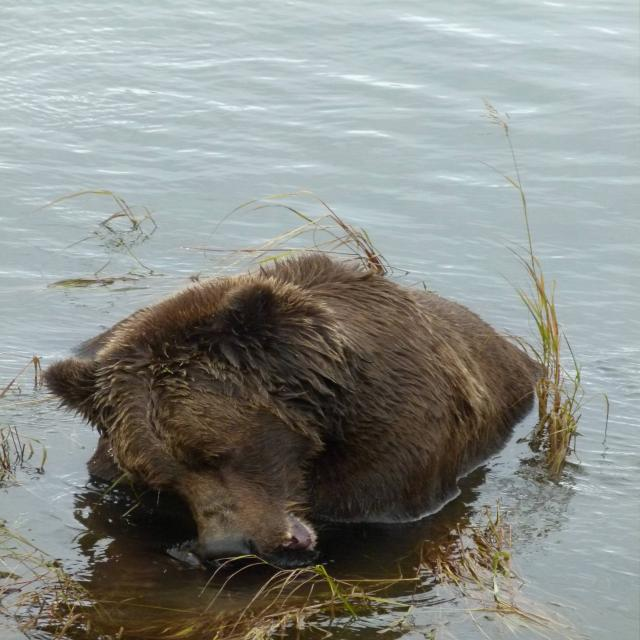bear face: (43, 251, 546, 571)
